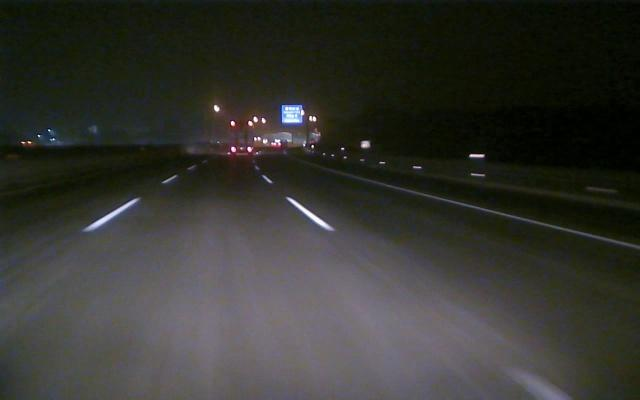lane: (329, 171, 637, 250), (2, 177, 173, 286), (78, 176, 176, 233), (263, 176, 335, 231)
